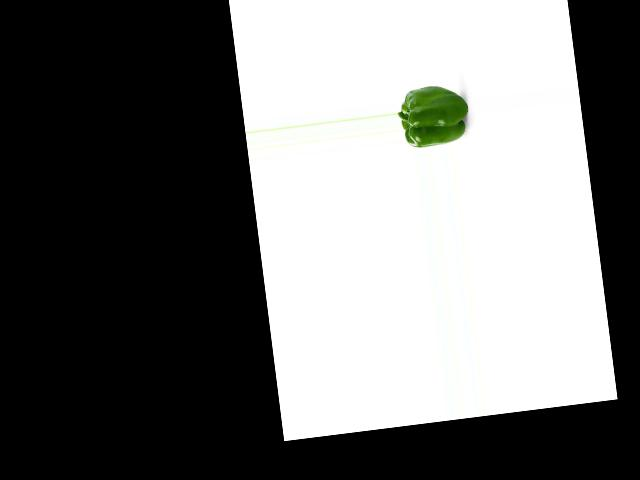bell_pepper: (396, 80, 470, 150)
